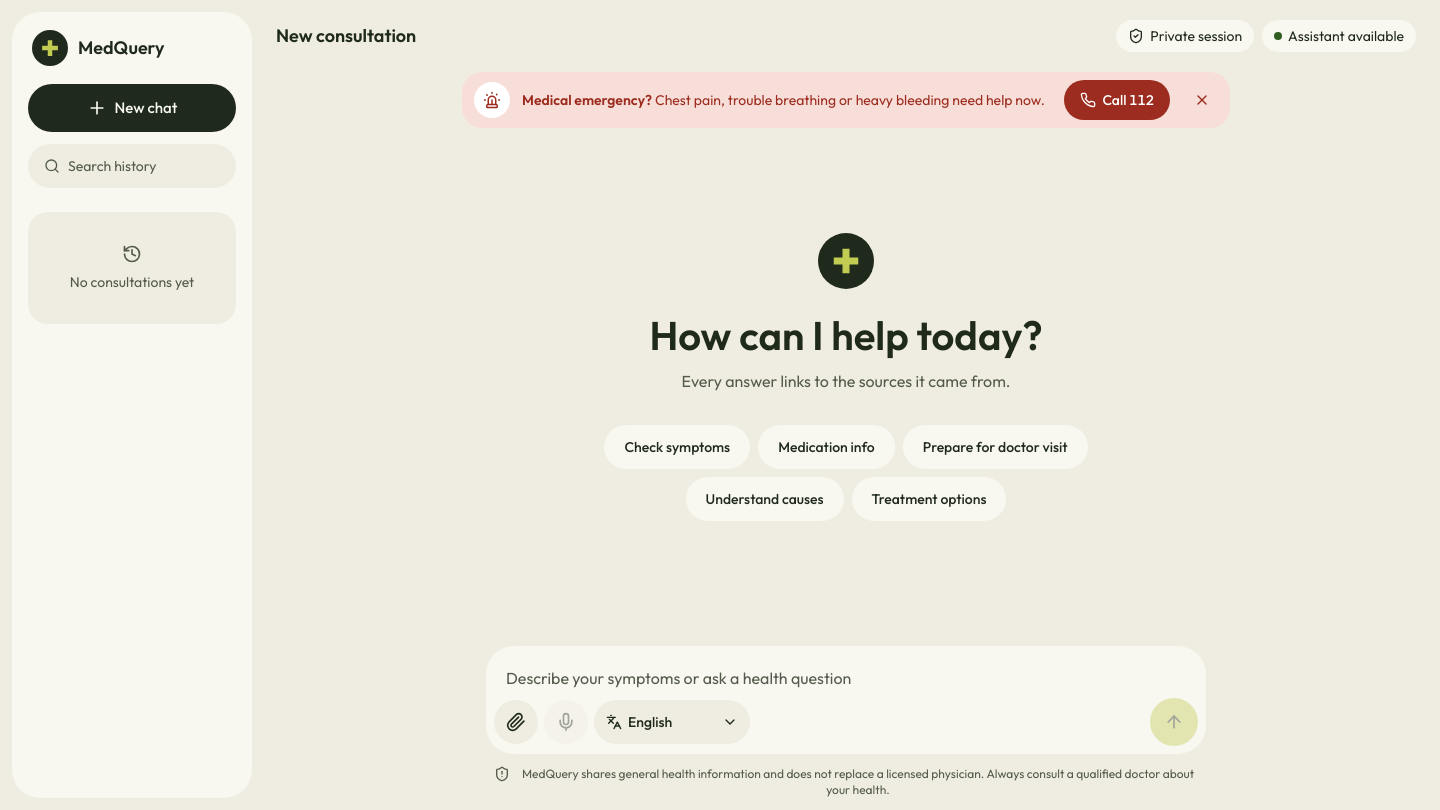
Test: a changed number in the translation is flagged
Select "ಕನ್ನಡ · Kannada" in the dropdown with test id "language" at (673, 722), box [628,712,718,732]
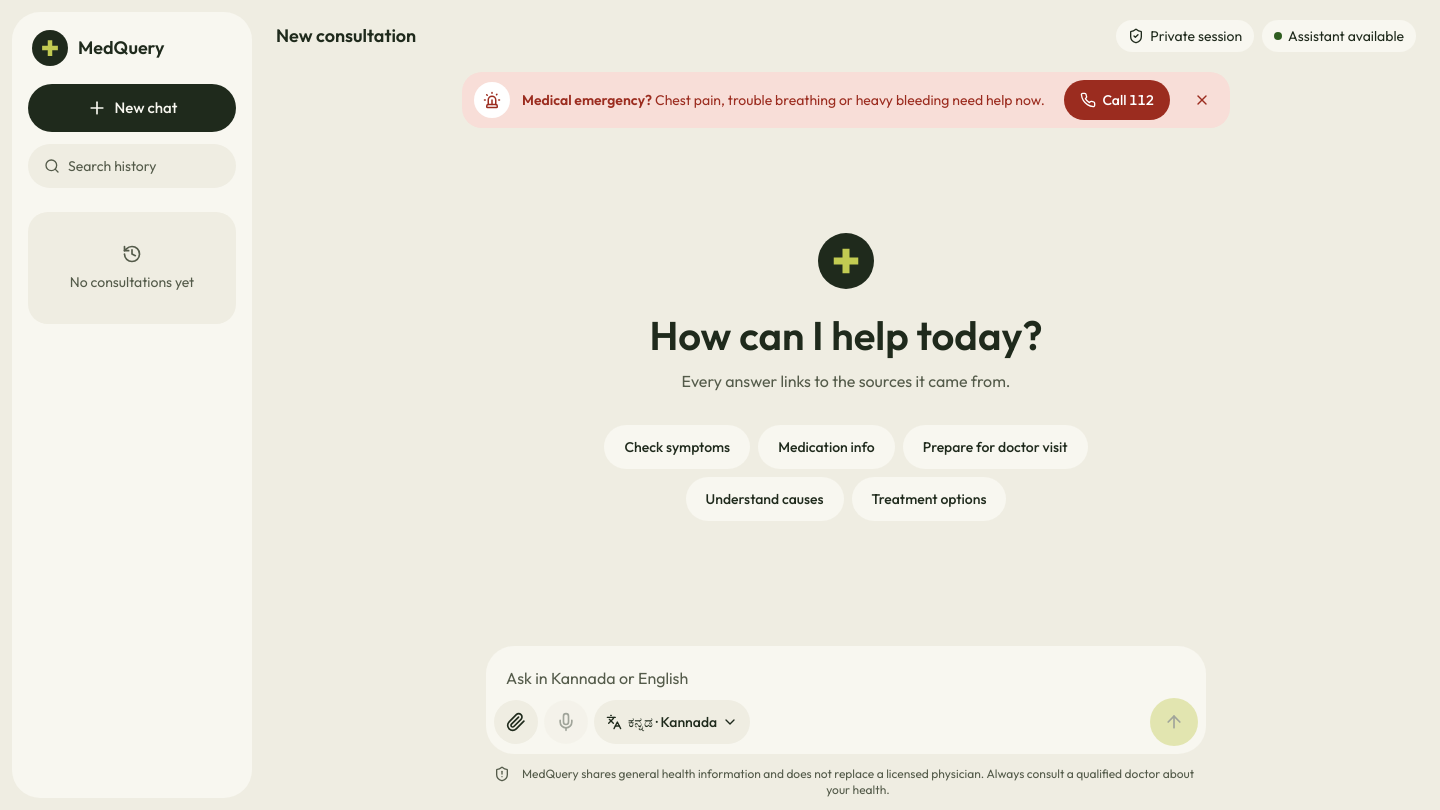
Type "ಪ್ರಶ್ನೆ ಇಲ್ಲಿ" into the text box named "Your medical question".
click(846, 676); type("ಪ್ರಶ್ನೆ ಇಲ್ಲಿ")  # box [494,654,1198,698]
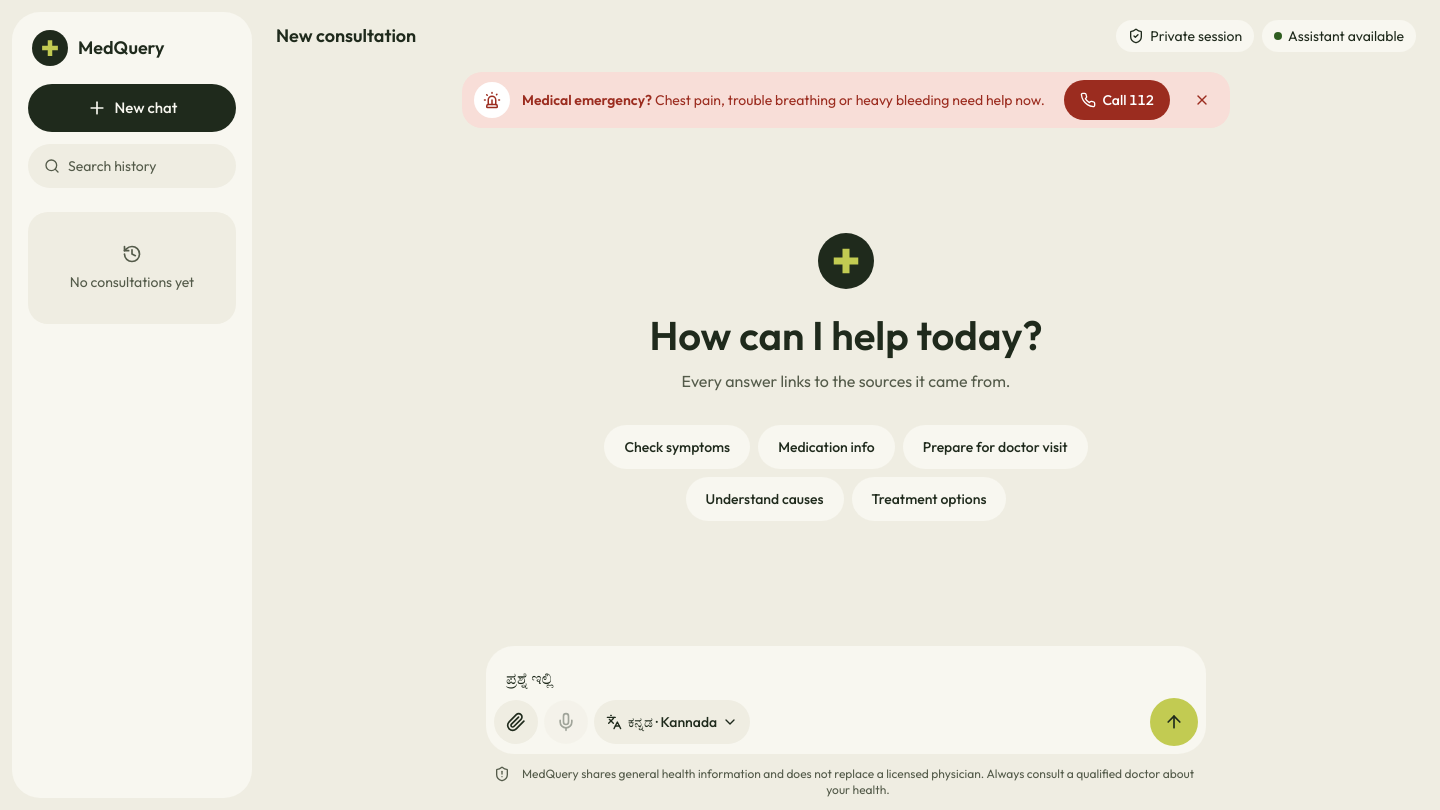
Submit the form named "Your medical question", box [486,646,1206,754]
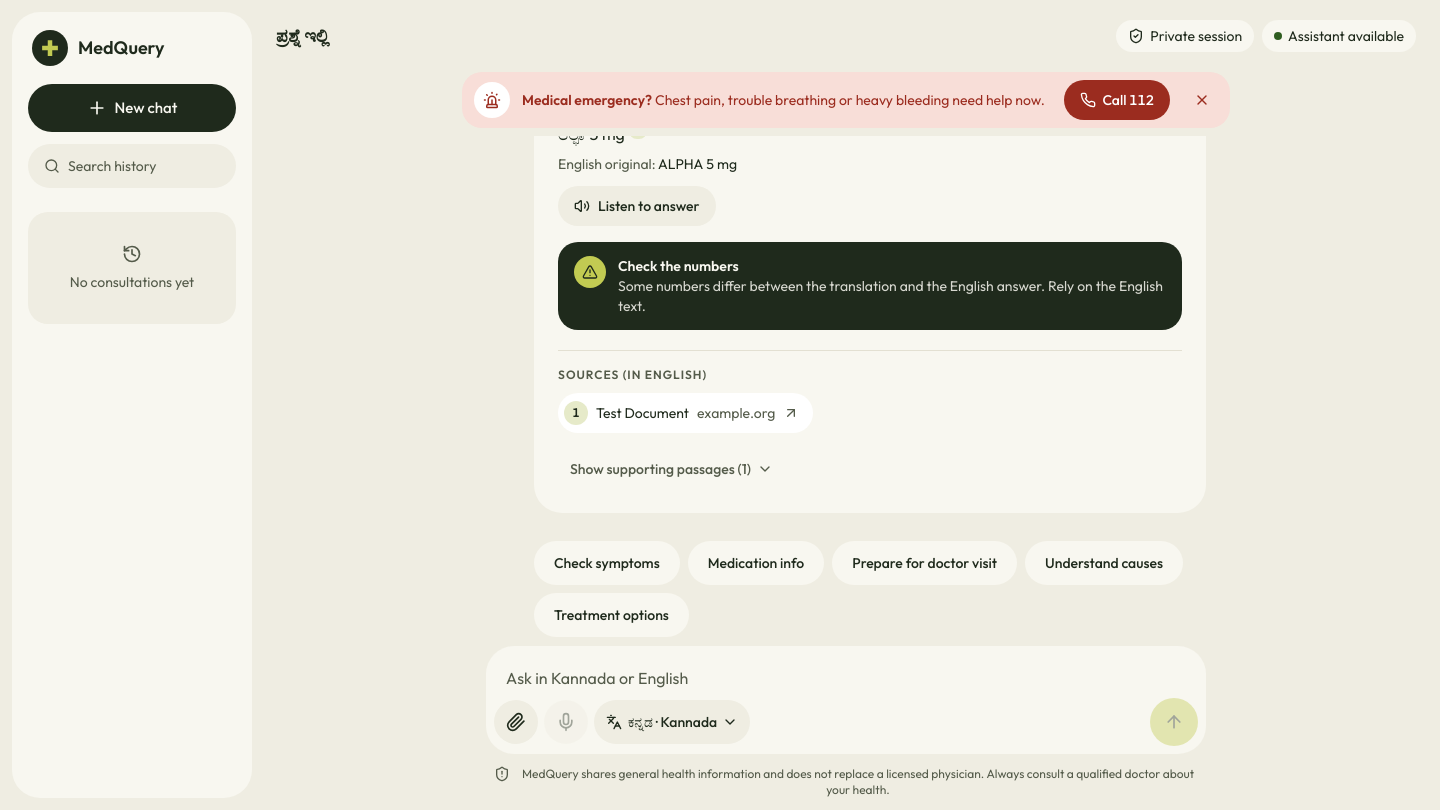
Now the element with test id "translation-warning" shows "Check the numbers", box [618,257,739,275]
